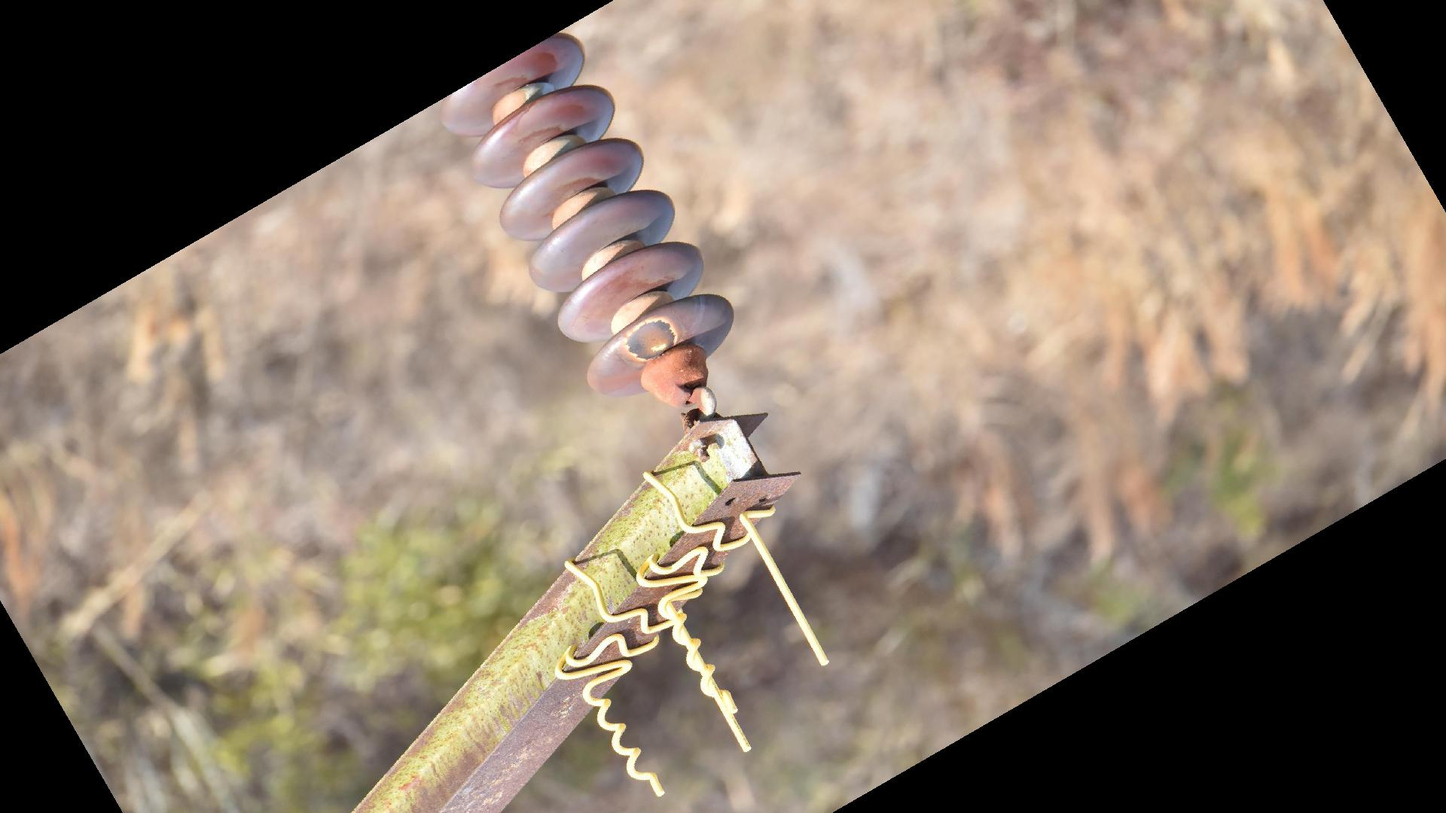insulator: (436, 26, 740, 400)
insulator_flashover: (621, 317, 677, 364)
